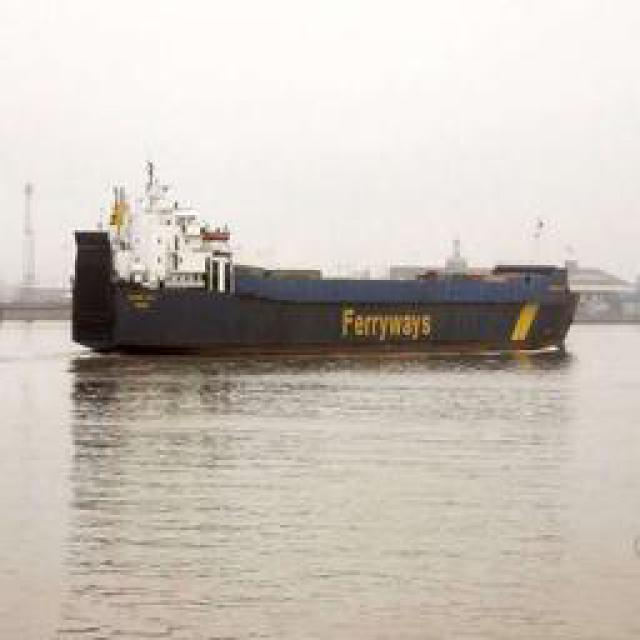Ship: (70, 164, 580, 367)
